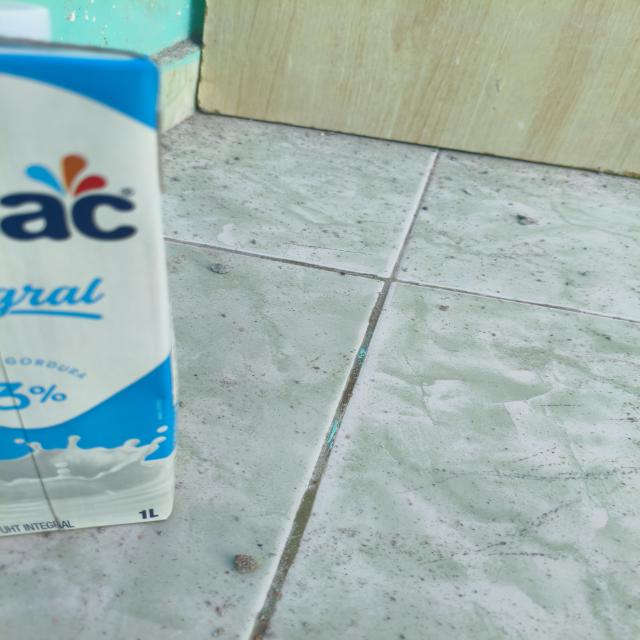Caixa de Leite: (2, 24, 179, 538)
